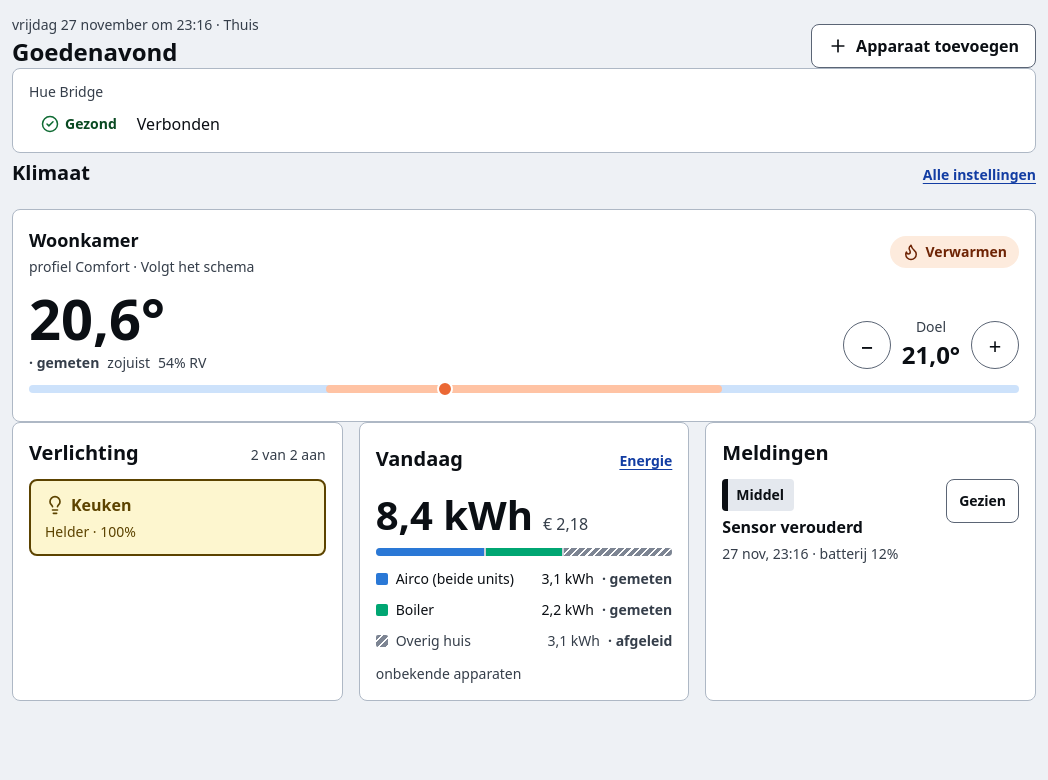
it: Overzicht (items 22, 31, 36) › tracks a light toggle until the bridge confirms it, and shows a failure
This screenshot has width=1048, height=780.
Expected: the text "2 van 2 aan" is shown, x1=251 y1=444 x2=326 y2=465
Step 1. Click the button "Keuken Helder · 100%" → coordinates (101, 505), box x1=29 y1=479 x2=326 y2=556
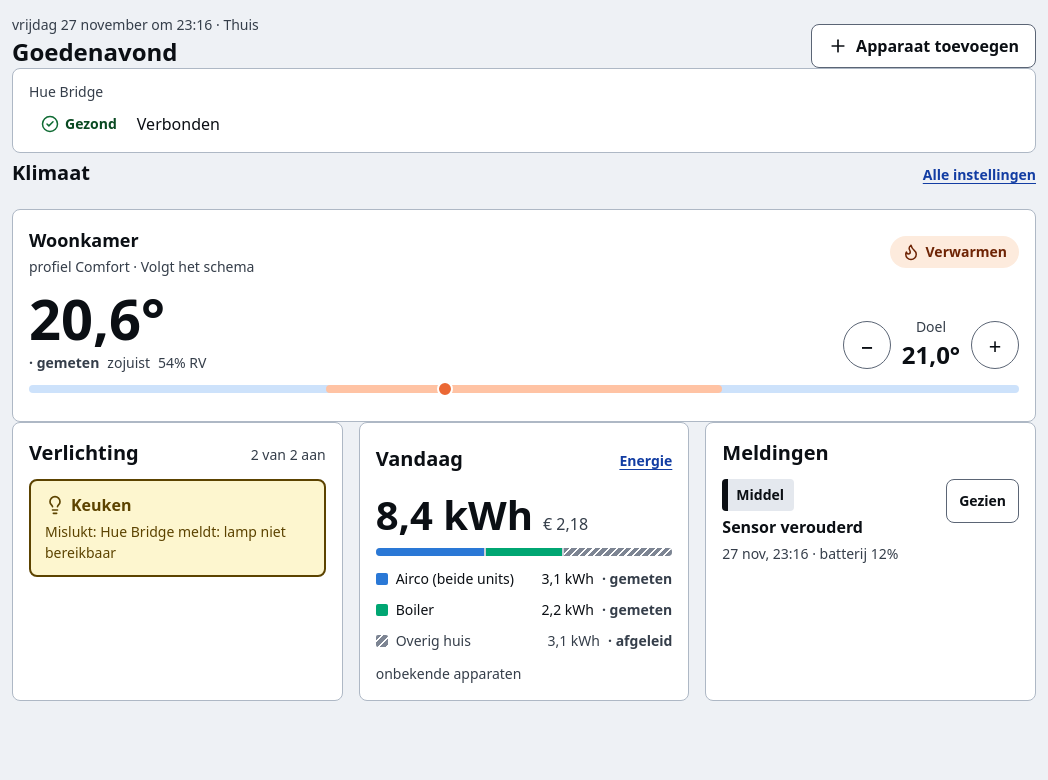
Expected: the text "Mislukt: Hue Bridge meldt: lamp niet bereikbaar" is shown, x1=45 y1=521 x2=310 y2=563
